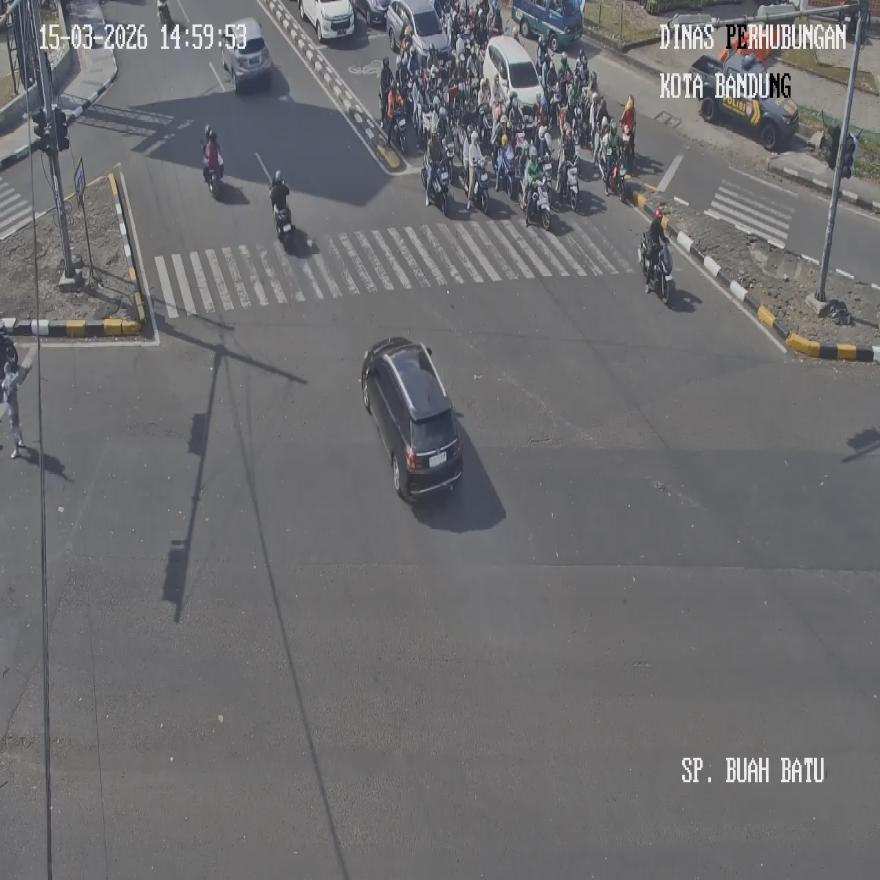Mobil: (361, 336, 462, 496), (386, 0, 452, 66), (511, 0, 583, 51), (222, 17, 272, 89)
Motor: (640, 232, 673, 303), (1, 369, 22, 457), (422, 155, 450, 215), (525, 177, 552, 229), (202, 133, 224, 196), (468, 159, 489, 214), (557, 160, 579, 210), (495, 148, 516, 198), (274, 199, 294, 251), (605, 158, 628, 202), (619, 121, 635, 170), (392, 107, 408, 156), (157, 0, 172, 29)
